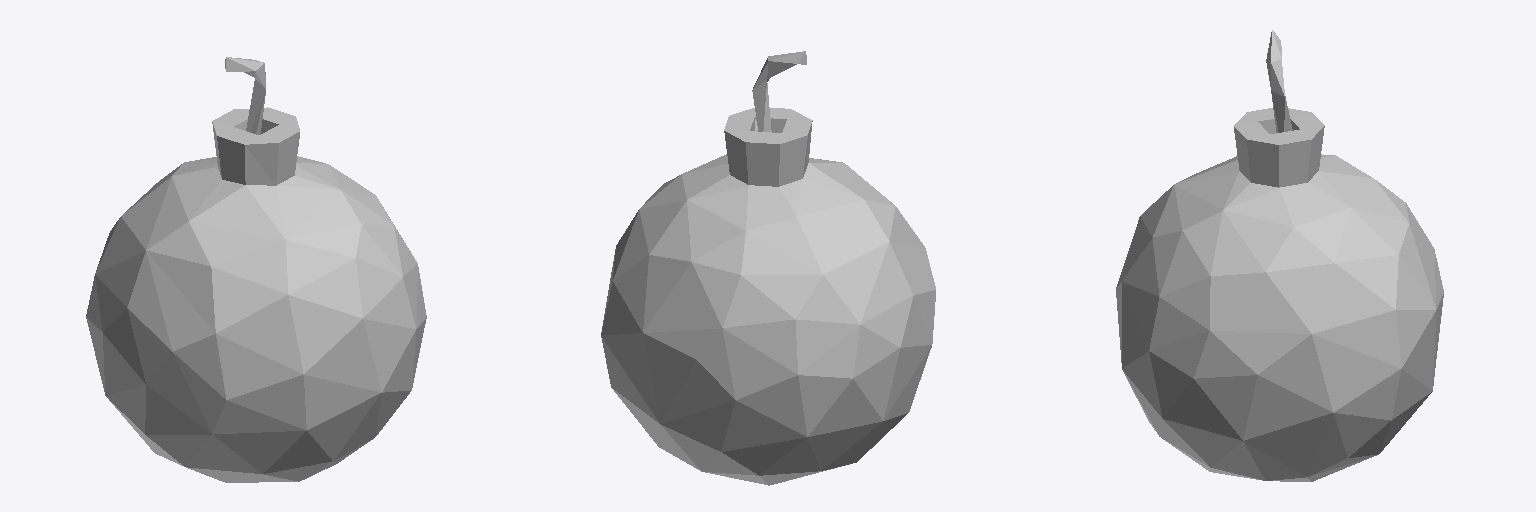
Rendered from mine.obj.
The picture shows the model from 3 angles: view 1: azimuth 30°, elevation 25°; view 2: azimuth 150°, elevation 25°; view 3: azimuth 270°, elevation 25°; orthographic projection.
Parts seen in each view (by area): view 1: Bomb; view 2: Bomb; view 3: Bomb.
Part boxes in pixels (x1,y1,x2,y2): Bomb: (86, 57, 426, 482); Bomb: (601, 51, 935, 485); Bomb: (1116, 30, 1443, 481).
Bounding box in the file's own units: 0.2998 × 0.4217 × 0.2984.